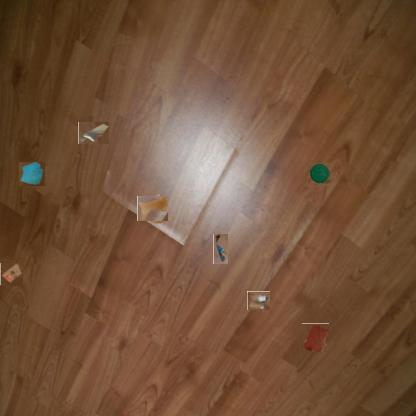dirty: (78, 122, 109, 144), (19, 162, 45, 186), (308, 163, 332, 187), (0, 263, 23, 286), (248, 290, 269, 311), (213, 235, 228, 264)
liquid: (301, 323, 329, 352), (139, 194, 167, 223)
